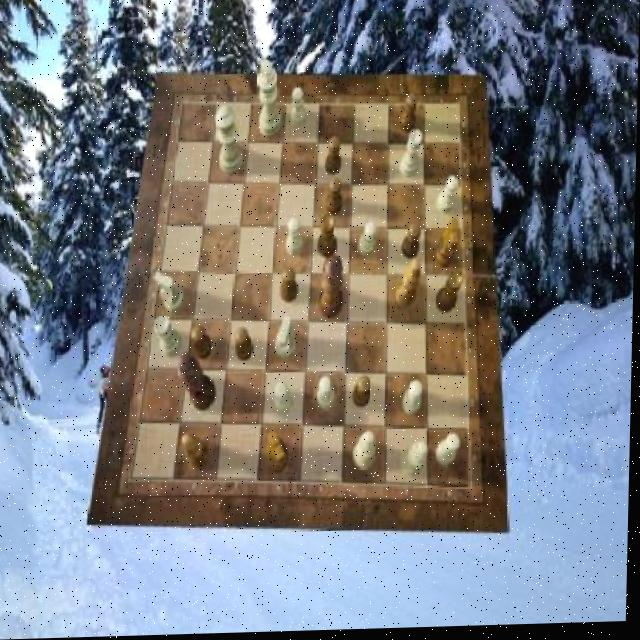bishop: (398, 261, 423, 311), (184, 434, 212, 472)
black-bishop: (178, 353, 216, 412)
black-king: (436, 220, 460, 270), (267, 431, 291, 474)
black-knight: (401, 226, 422, 262), (400, 96, 418, 137), (192, 327, 213, 361), (325, 181, 343, 218), (325, 138, 342, 177), (237, 329, 255, 364), (282, 268, 300, 303), (354, 379, 373, 412)
black-pawn: (319, 258, 345, 322)
black-queen: (436, 272, 464, 315), (318, 215, 339, 261)
black-rook: (354, 434, 378, 475), (403, 444, 431, 479)
white-bishop: (256, 60, 283, 138)
white-king: (154, 271, 186, 314), (276, 318, 297, 361)
white-knight: (437, 178, 460, 216), (437, 437, 462, 470), (404, 382, 424, 417), (286, 219, 304, 257), (275, 382, 295, 416), (291, 90, 307, 130), (359, 223, 377, 258), (320, 378, 338, 412)
white-pawn: (214, 108, 246, 176)
white-queen: (155, 314, 184, 357), (399, 133, 422, 181)
